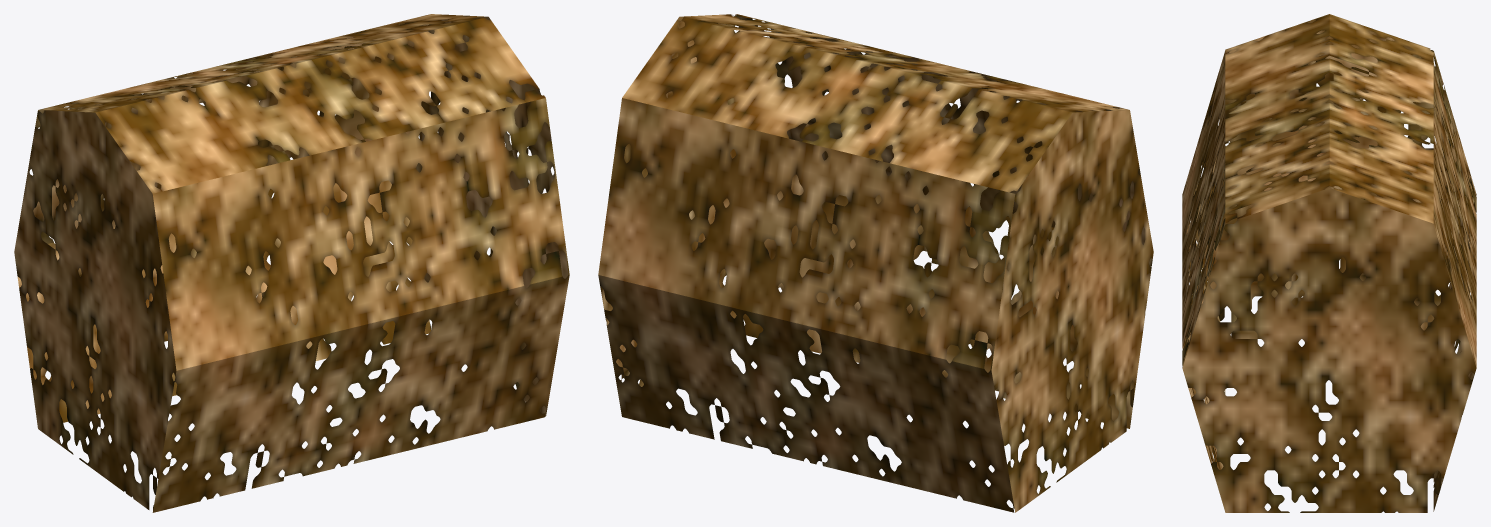
File: bush_long_half_autumn.fbx
3 renders of one model, left to right at view 1: azimuth 30°, elevation 25°; view 2: azimuth 150°, elevation 25°; view 3: azimuth 270°, elevation 25°, orthographic. The views are drawn at different scales.
Visible parts, largest first — view 1: bush_long_half_autumn; view 2: bush_long_half_autumn; view 3: bush_long_half_autumn.
Part boxes in pixels (bbox=[...]): bush_long_half_autumn: bbox=[14, 14, 569, 512]; bush_long_half_autumn: bbox=[598, 14, 1153, 512]; bush_long_half_autumn: bbox=[1182, 14, 1476, 512].
Bounding box in the file's own units: 101 × 87.65 × 71.91.
1 material, 1 textured.
